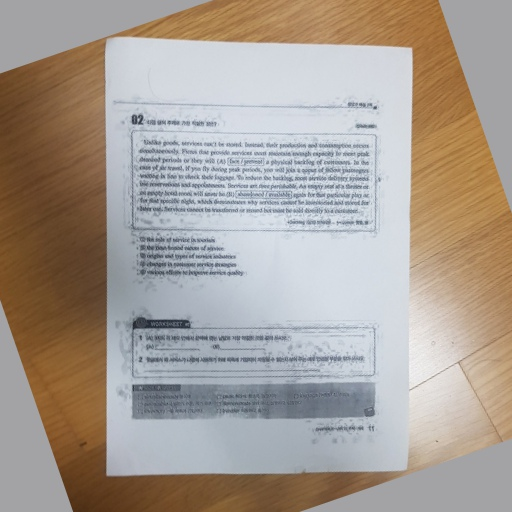Paper_2: (106, 33, 419, 481)
